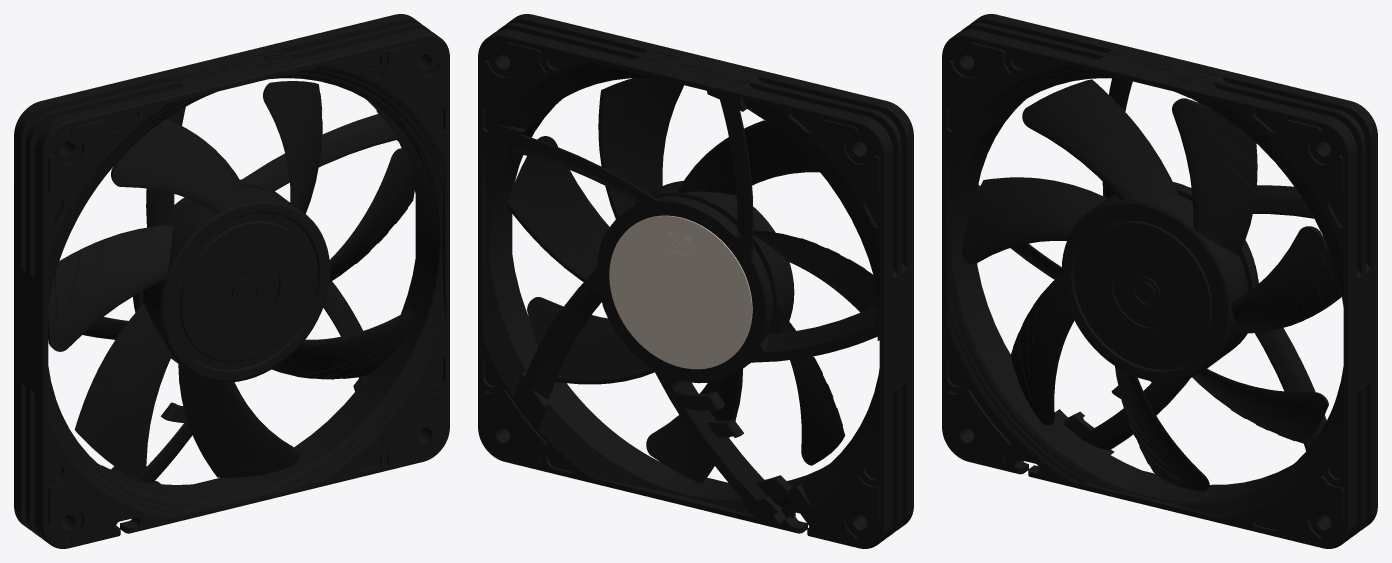
Rendered from noctua-nf-a12x15-chromax.glb.
The picture shows the model from 3 angles, left to right: view 1: azimuth 30°, elevation 25°; view 2: azimuth 150°, elevation 25°; view 3: azimuth 330°, elevation 25°; orthographic projection.
Parts seen in each view (by area): view 1: NF-A12x15_Frame-Public; view 2: NF-A12x15_Frame-Public, Fan-Label-D42mm-Chromax; view 3: NF-A12x15_Frame-Public.
Boxes of the visible parts, x1,y1,x2,y2 form: NF-A12x15_Frame-Public: (14,14,449,548); NF-A12x15_Frame-Public: (478,14,913,548); Fan-Label-D42mm-Chromax: (609,215,752,369); NF-A12x15_Frame-Public: (942,14,1377,548).
Bounding box in the file's own units: 0.12 × 0.12 × 0.0162.
